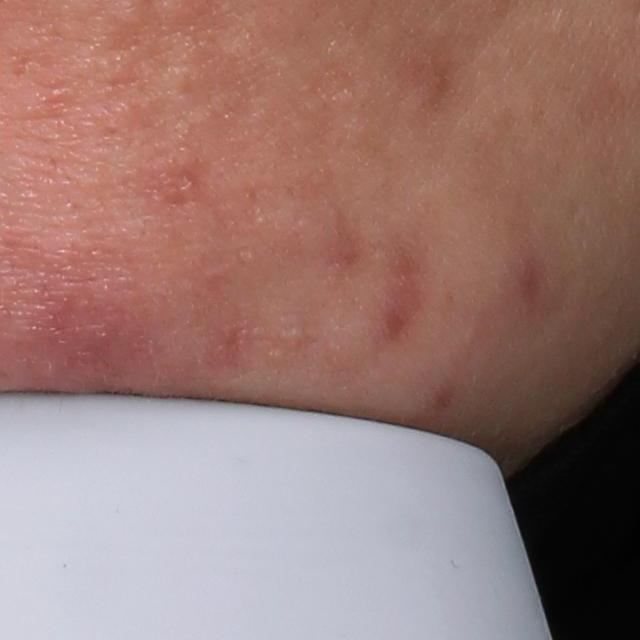hypertrophic_scar: (69, 35, 140, 94), (162, 57, 208, 105)
